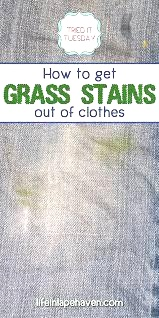earth: (98, 132, 139, 162), (18, 188, 42, 208)
